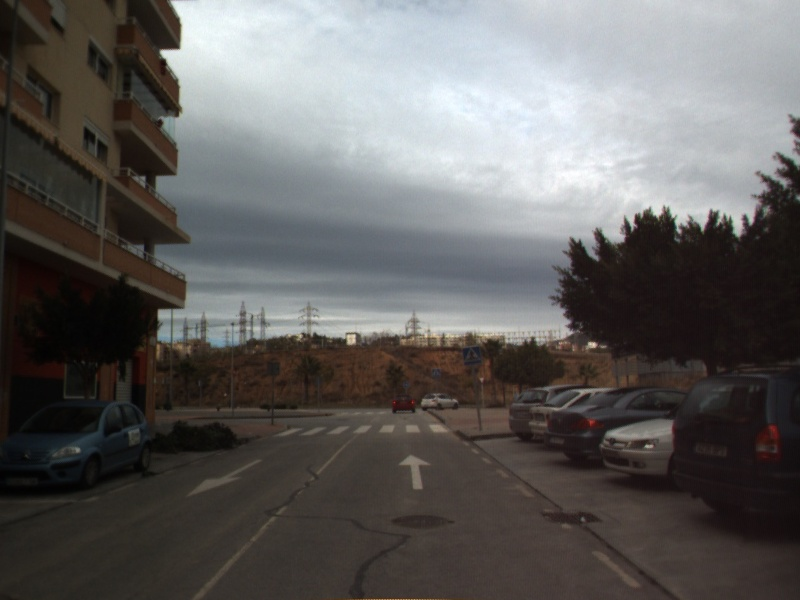STRAIGHT: (396, 452, 433, 491)
